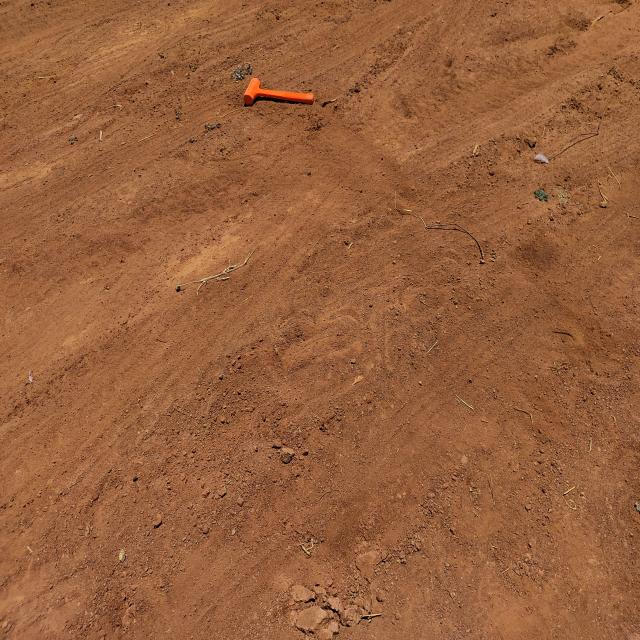Orange_hammer: (242, 76, 314, 106)
